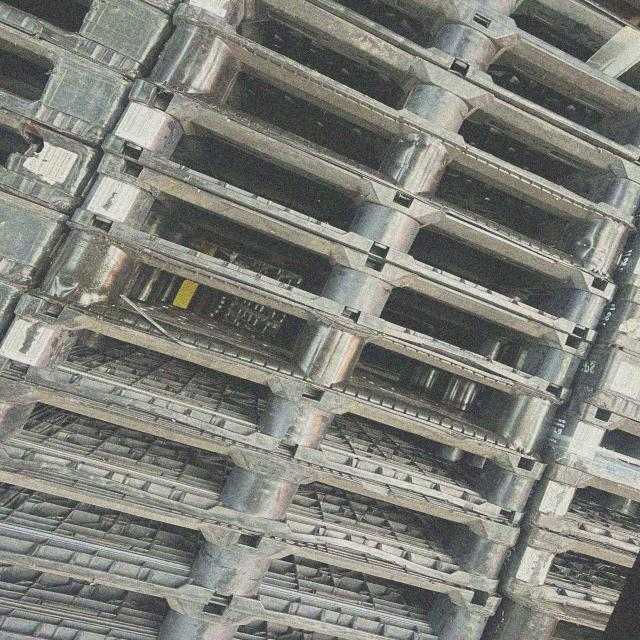igps: (94, 67, 628, 353), (131, 0, 640, 294), (60, 143, 601, 411), (19, 210, 568, 470), (0, 285, 558, 535), (0, 368, 529, 602), (158, 0, 640, 240), (0, 456, 508, 640), (250, 0, 640, 172), (0, 541, 403, 640), (361, 0, 640, 128), (0, 16, 143, 156), (0, 0, 179, 88), (494, 518, 640, 624), (515, 448, 640, 562), (0, 102, 108, 220), (526, 387, 640, 497), (553, 333, 640, 430), (0, 185, 78, 292), (472, 582, 614, 640), (584, 286, 640, 362)
